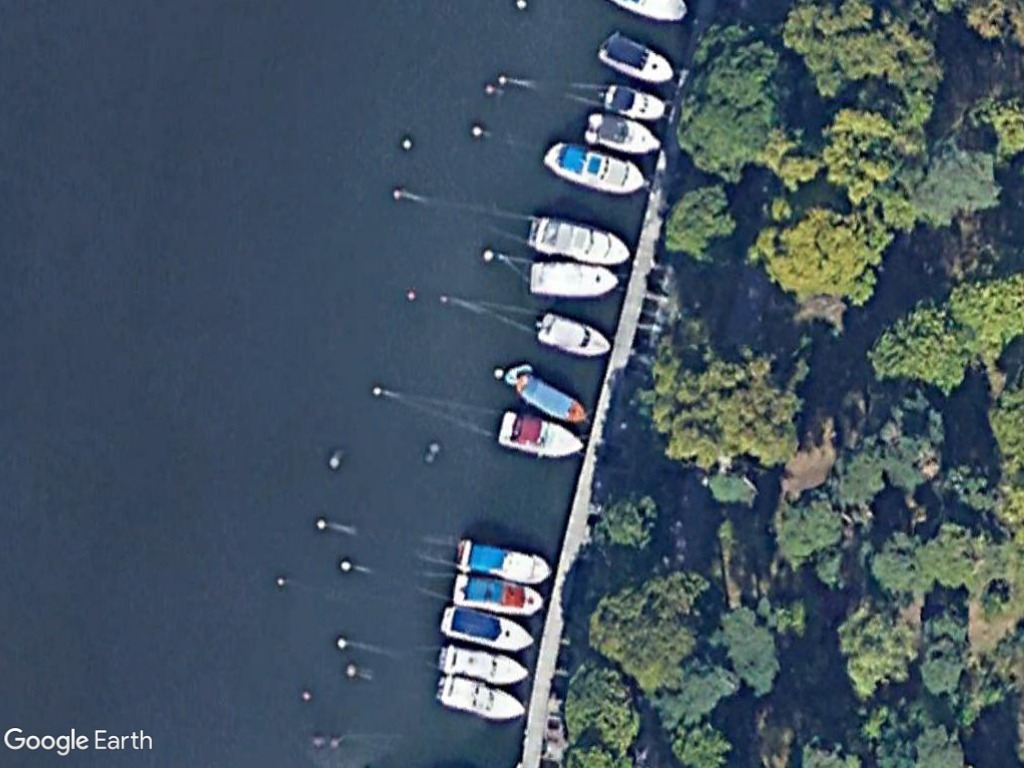boat: (534, 137, 655, 199), (516, 210, 635, 269), (450, 534, 560, 590), (431, 633, 539, 689), (489, 404, 590, 462), (435, 600, 544, 653), (446, 565, 553, 618), (433, 669, 534, 725), (589, 25, 676, 87), (526, 305, 619, 361), (510, 368, 595, 428), (577, 106, 665, 161), (523, 253, 625, 300), (602, 78, 682, 128)
